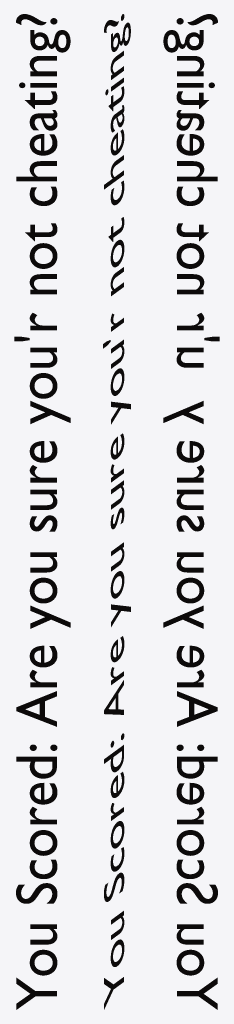
The model's file is point6.dae.
The picture shows the model from 3 angles, left to right: view 1: azimuth 90°, elevation 25°; view 2: azimuth 150°, elevation 25°; view 3: azimuth 270°, elevation 25°; orthographic projection.
Parts seen in each view (by area): view 1: Text; view 2: Text; view 3: Text.
Boxes of the visible parts, x1,y1,x2,y2 form: Text: [14, 14, 70, 1009]; Text: [103, 14, 130, 1009]; Text: [163, 14, 219, 1009].
Size of the model in its own units: 8.09e-07 by 0.946 by 18.52.
1 material, 1 textured.
